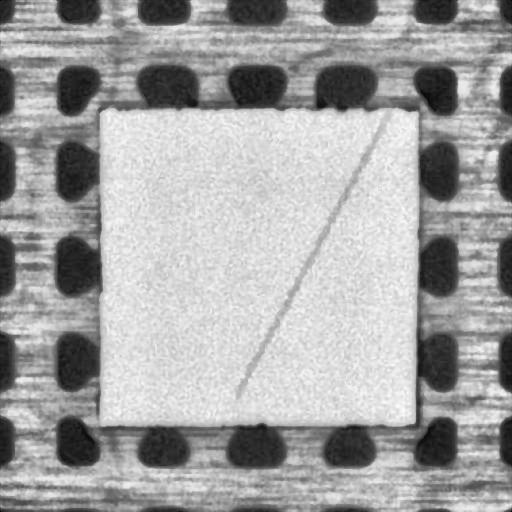DIE_CRACK: (235, 111, 388, 396)
